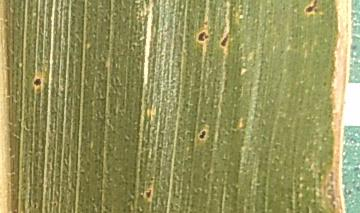tarspot: (303, 1, 320, 15), (31, 75, 45, 89), (196, 30, 209, 45), (219, 33, 230, 50), (143, 185, 154, 201), (198, 127, 207, 143)
